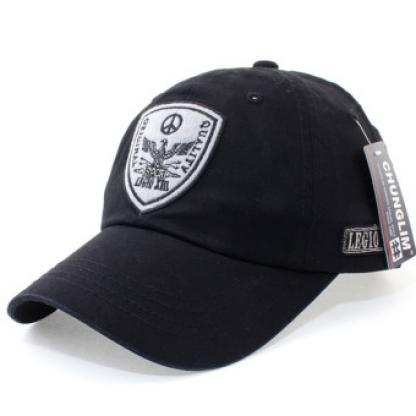cap: (6, 55, 410, 373)
